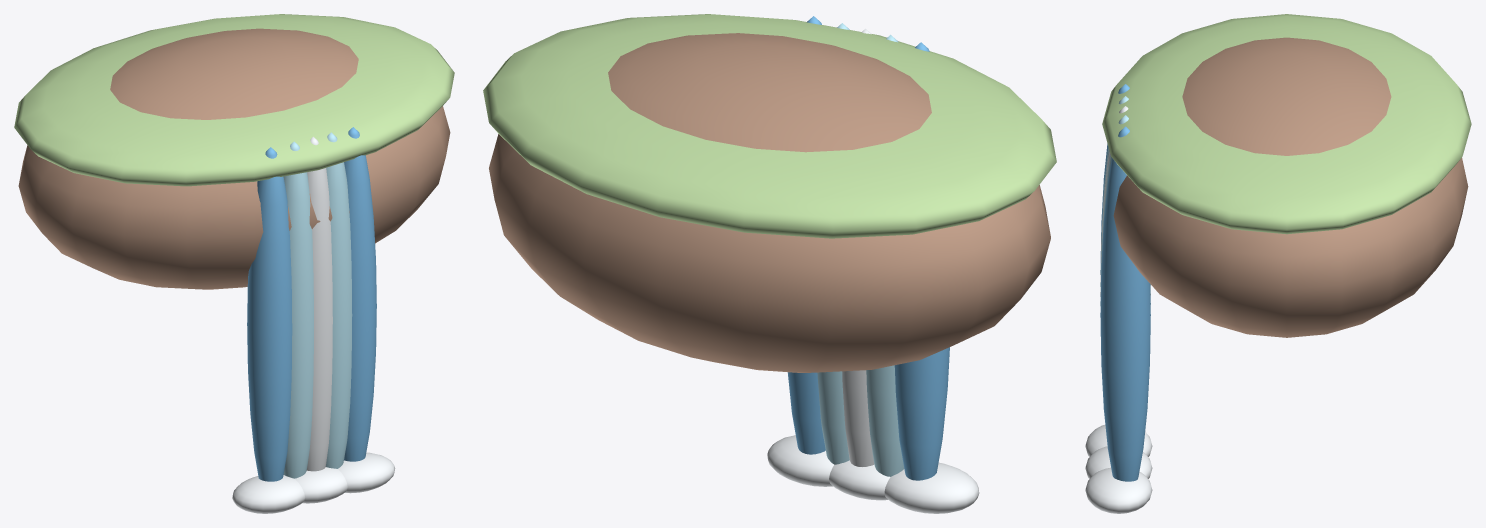
File: st_rain_falls.glb
3 views of the same model, side by side, from view 1: azimuth 30°, elevation 25°; view 2: azimuth 150°, elevation 25°; view 3: azimuth 270°, elevation 25° (orthographic). The views are drawn at different scales.
Visible parts, largest first — view 1: Floating_Waterfall; view 2: Floating_Waterfall; view 3: Floating_Waterfall.
Part boxes in pixels (x1,y1,x2,y2): Floating_Waterfall: [14, 14, 454, 513]; Floating_Waterfall: [483, 14, 1056, 513]; Floating_Waterfall: [1085, 14, 1471, 513].
Size of the model in its own units: 2.96 by 2.68 by 2.3.
